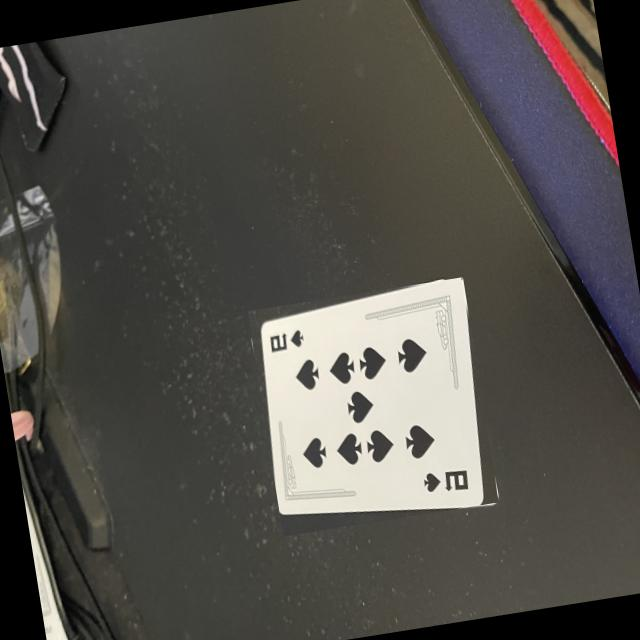9 of spades: (262, 278, 482, 509)
